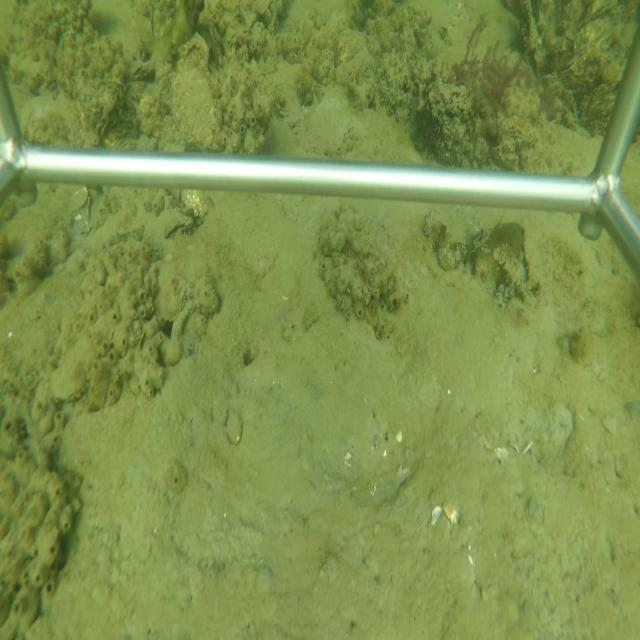Oyster-Closed: (171, 46, 223, 152), (48, 330, 100, 406)
